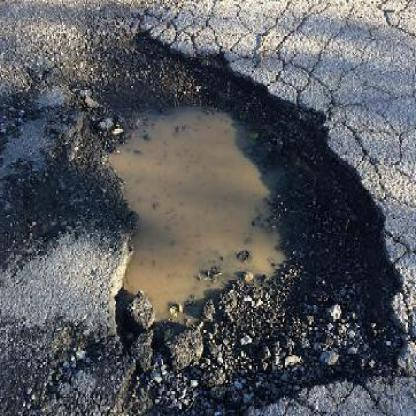pothole: (75, 29, 413, 416)
